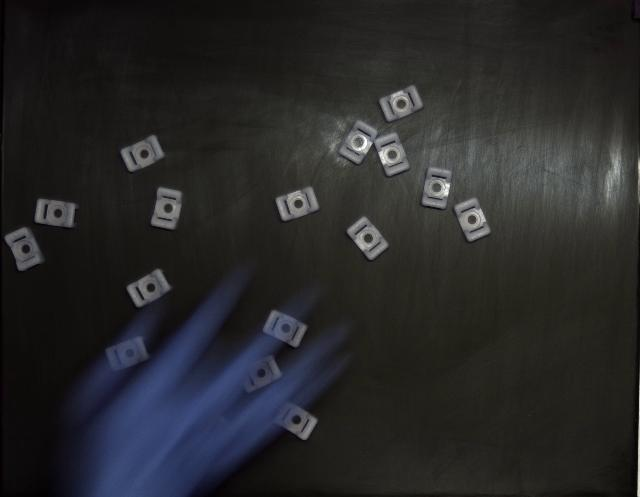first_side: (346, 216, 389, 261), (126, 269, 172, 308), (339, 120, 378, 165), (5, 228, 45, 271), (120, 135, 165, 172), (379, 85, 424, 122), (454, 198, 491, 242), (275, 186, 320, 221), (375, 132, 410, 176), (35, 199, 79, 229), (151, 188, 182, 230), (421, 168, 452, 210)
